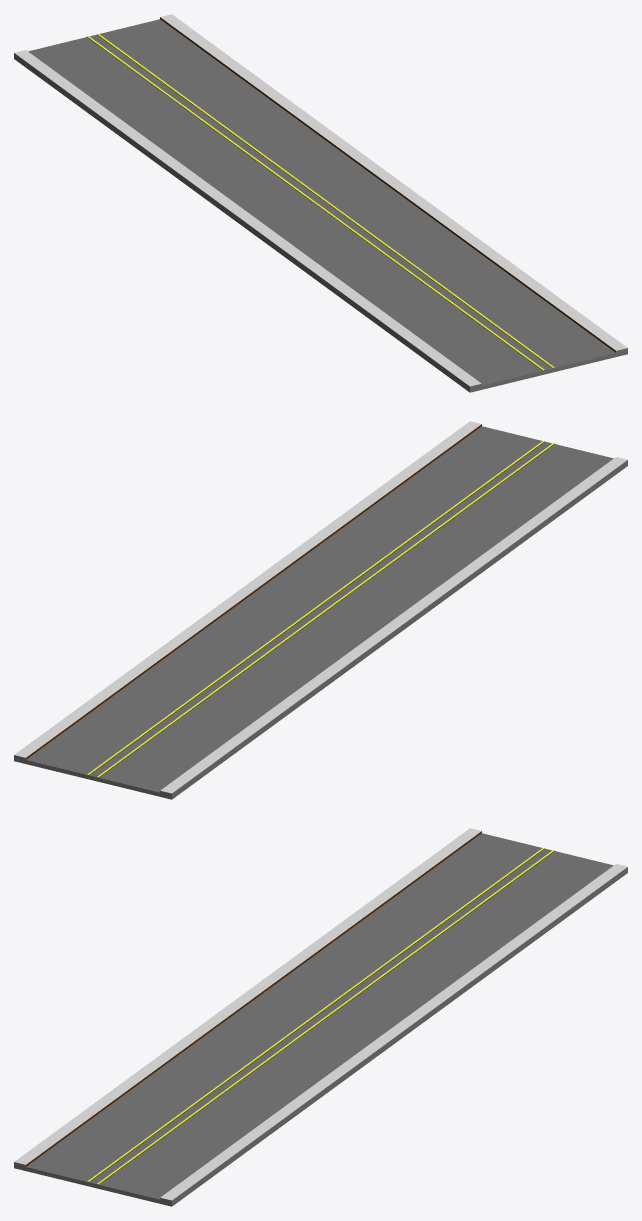
The model's file is street.gltf.
The picture shows the model from 3 angles, top to bottom: view 1: azimuth 30°, elevation 25°; view 2: azimuth 150°, elevation 25°; view 3: azimuth 330°, elevation 25°; orthographic projection.
Parts seen in each view (by area): view 1: root; view 2: root; view 3: root.
Part boxes in pixels (x1,y1,x2,y2): root: (14,14,627,392); root: (14,421,627,799); root: (14,828,627,1206).
Bounding box in the file's own units: 40 × 1.5 × 200.
